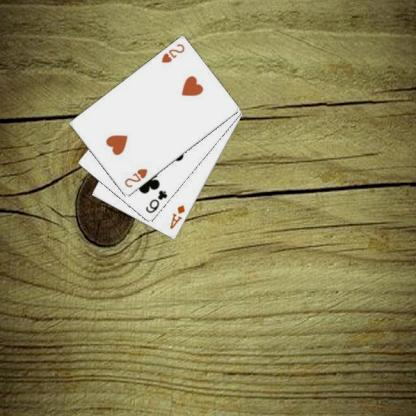2H: (158, 41, 186, 65), (122, 166, 148, 189)
6C: (143, 188, 169, 215)
AD: (167, 202, 186, 230)
